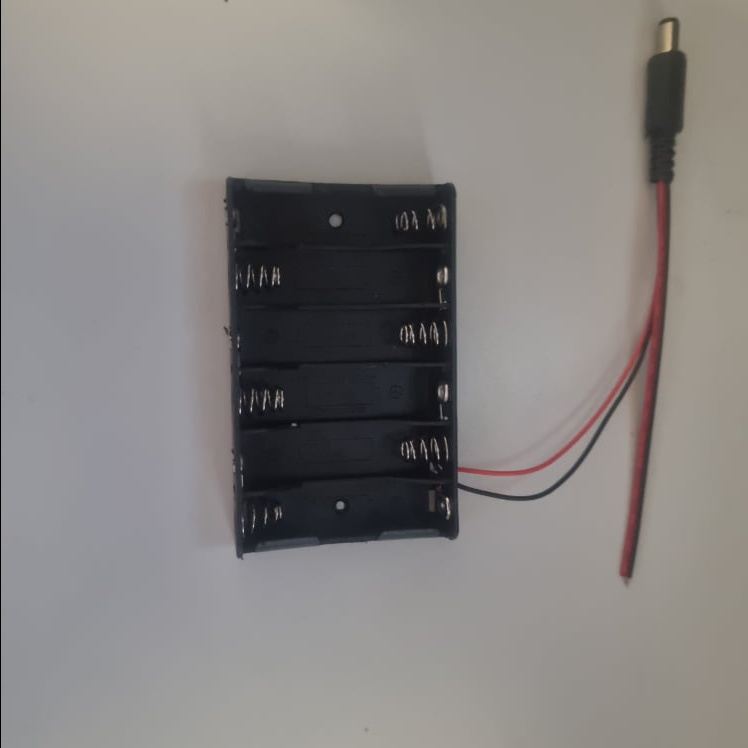BATTERY BOX: (222, 175, 458, 560)
